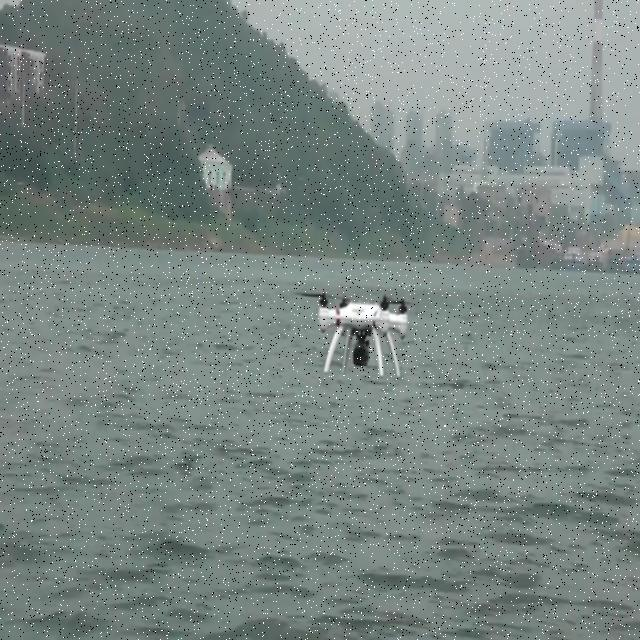UAV: (314, 288, 410, 379)
